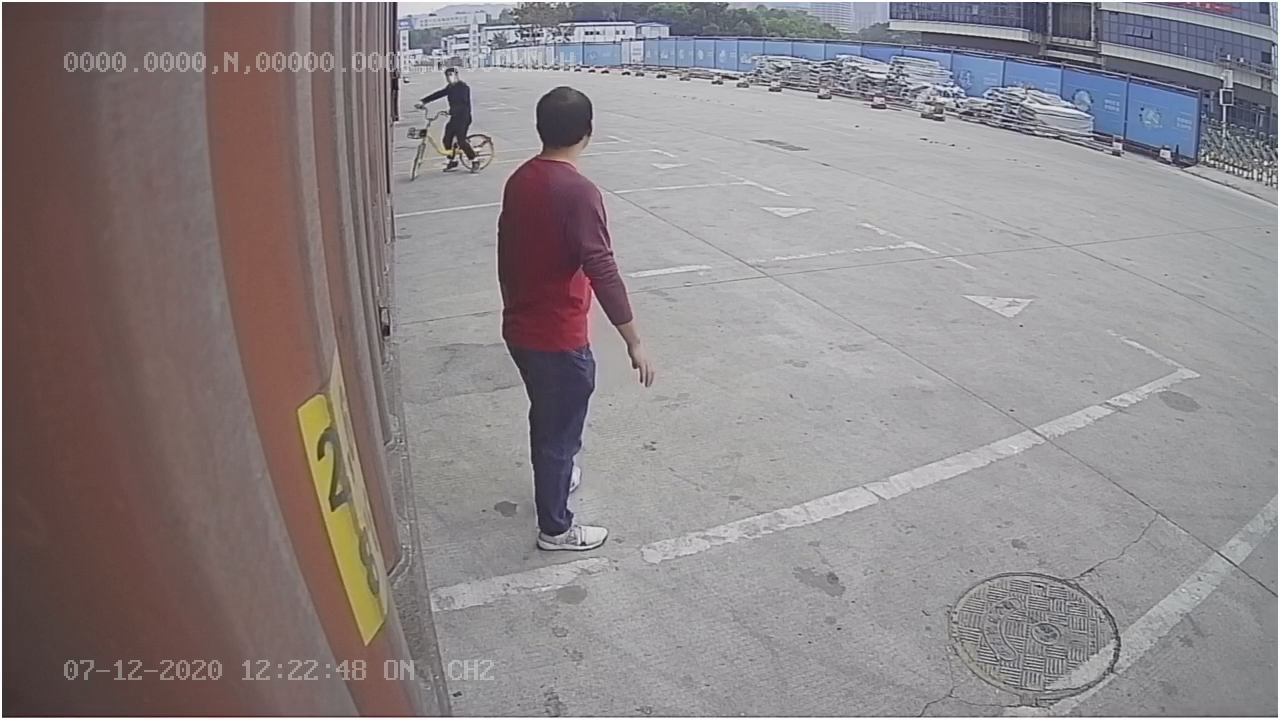person: (486, 80, 662, 556)
